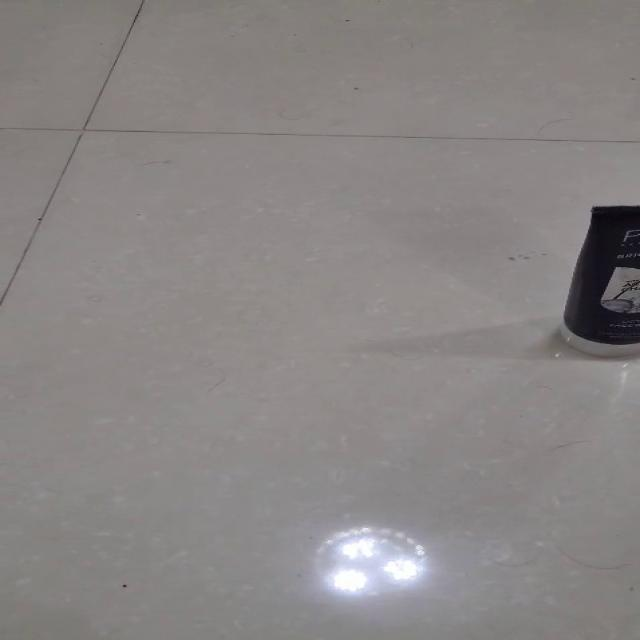plastic: (557, 203, 639, 357)
